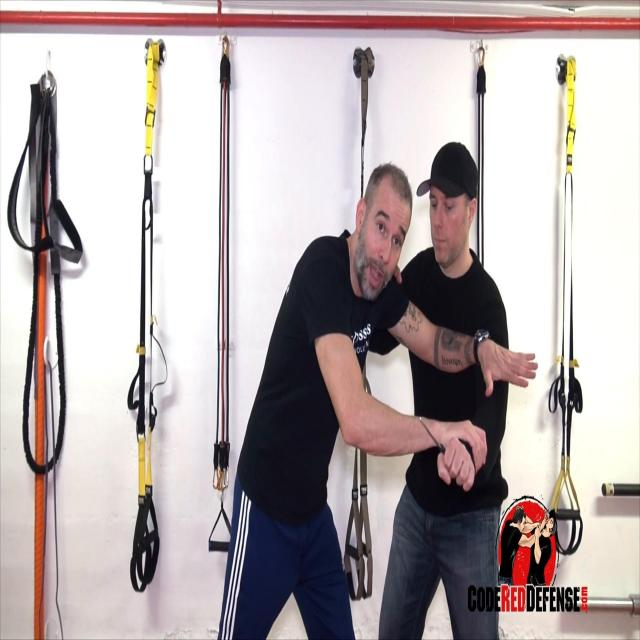scissor: (420, 416, 448, 458)
